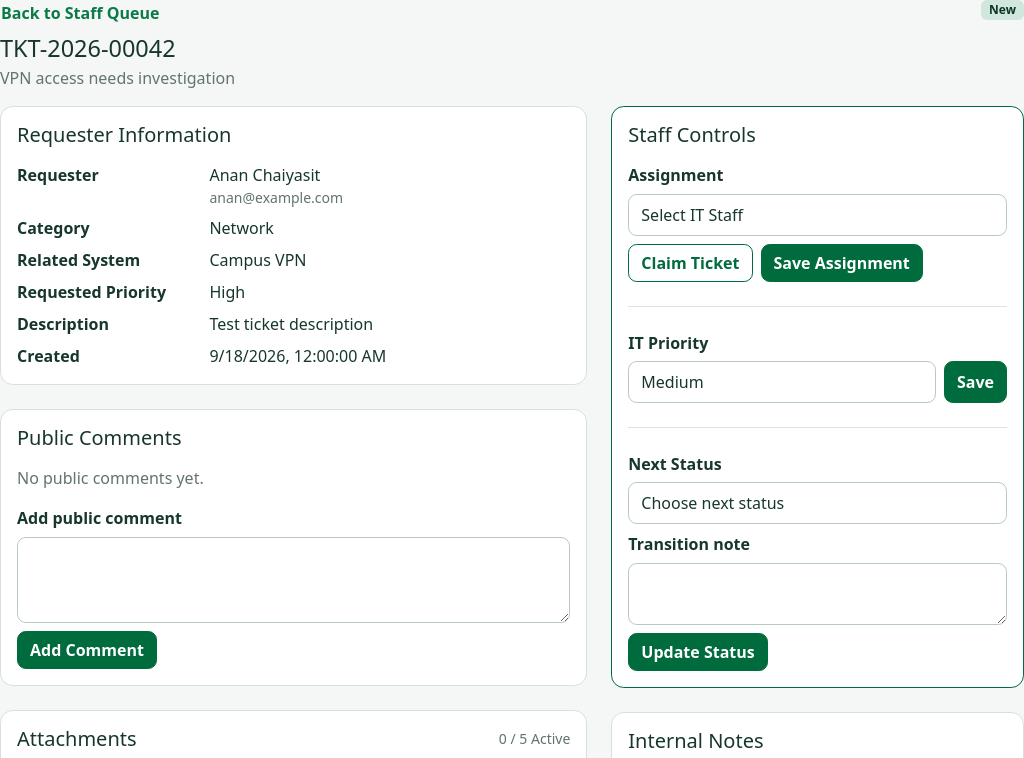
Test: TicketWorkflow › submits a permitted transition with its reason and current timestamp
Expected: the heading "TKT-2026-00042" is shown, [0,32,176,64]
Select "Open" in the dropdown labelled "Next Status": (818, 503) [628,482,1007,524]
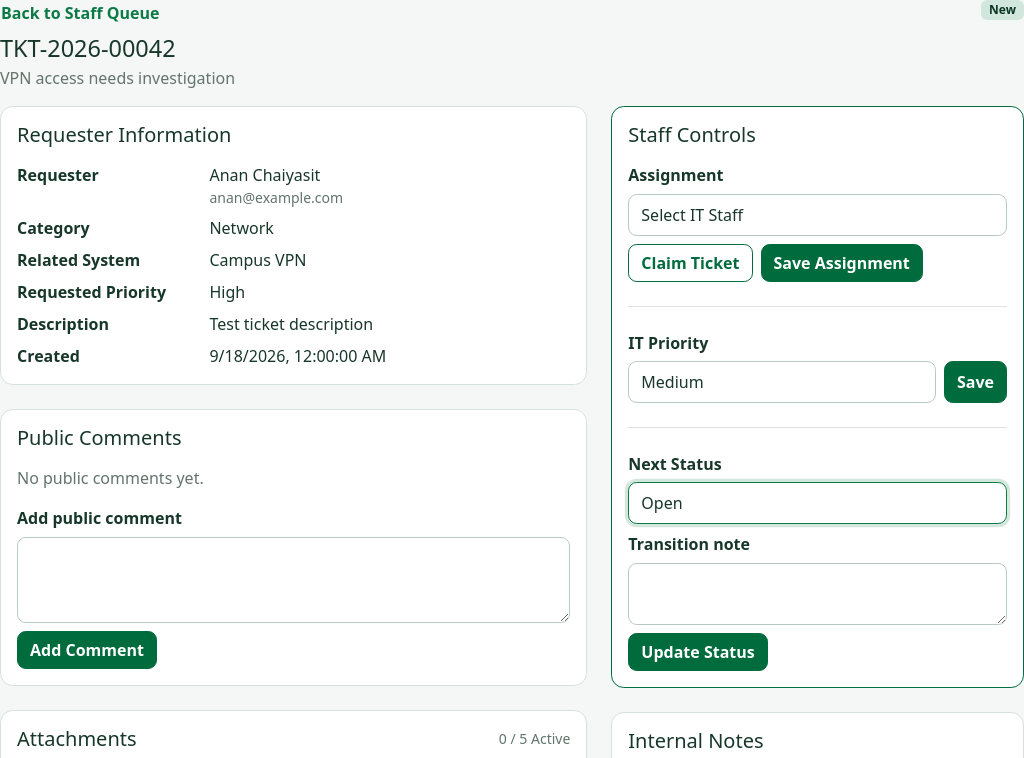
In the text box labelled "Transition note": (818, 594) [628,563,1007,625], type "Initial investigation started."
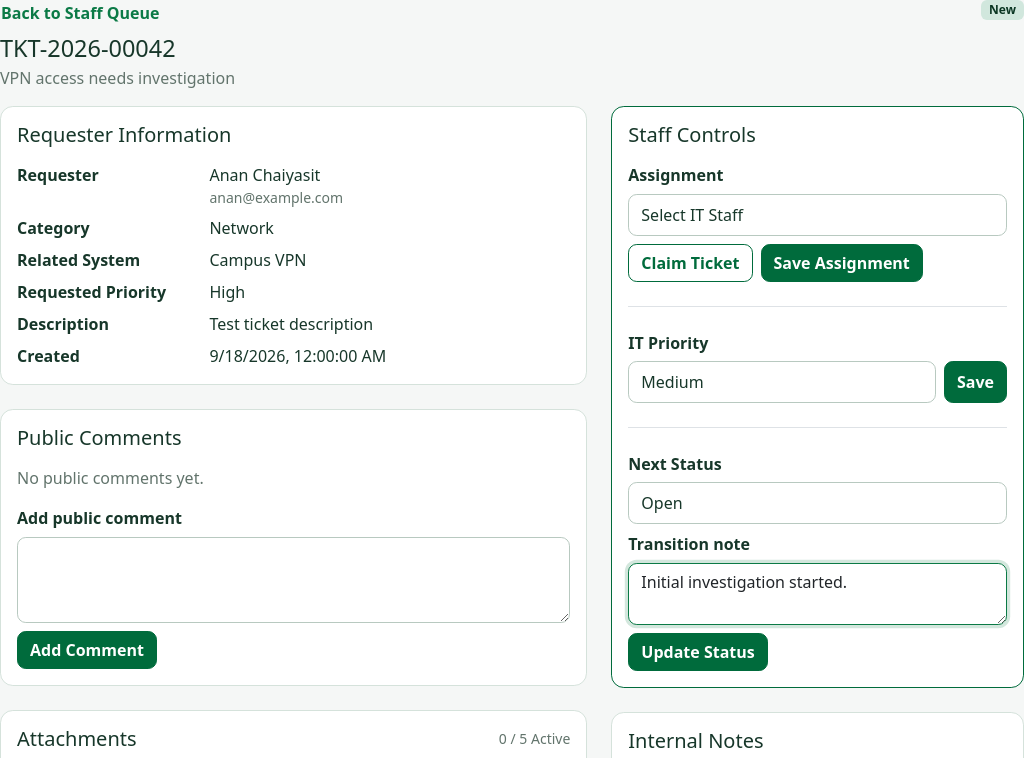
Click the button "Update Status": (698, 652) [628,633,768,671]
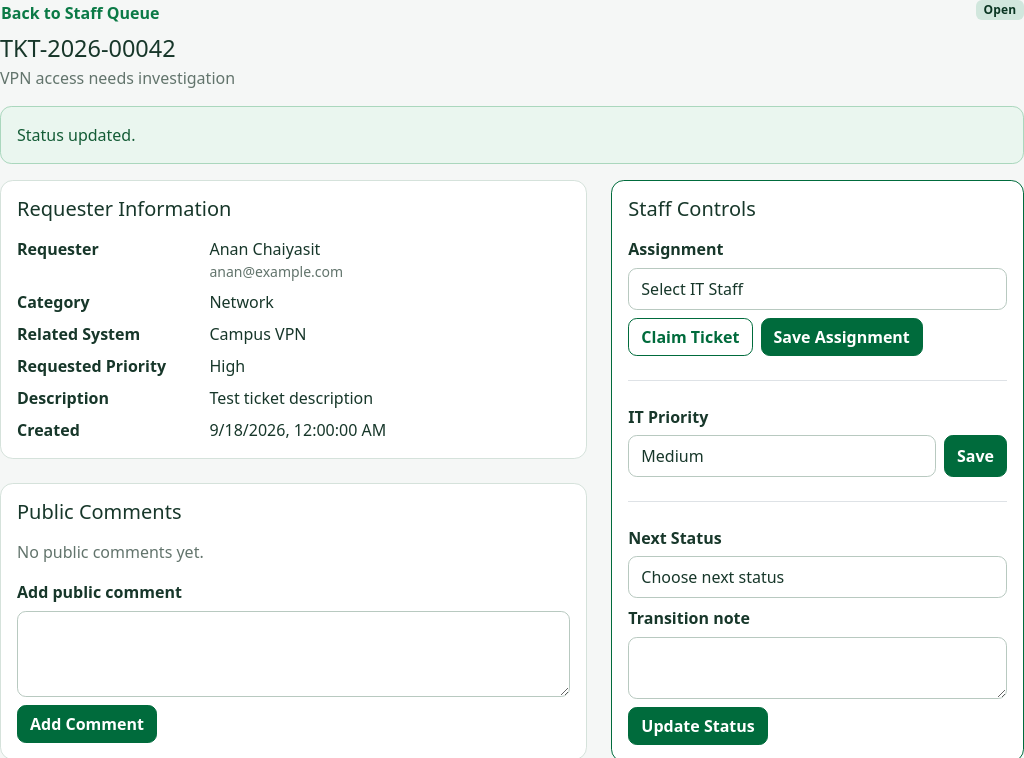
Now the text "Status updated." is shown, box [0,106,1023,164]
Now the text "Open" is shown, box [976,0,1023,20]
